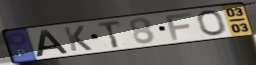8: (128, 16, 158, 46)
A: (35, 29, 70, 58)
F: (164, 11, 194, 42)
K: (62, 25, 94, 53)
O: (196, 9, 228, 36)
T: (95, 19, 123, 49)
